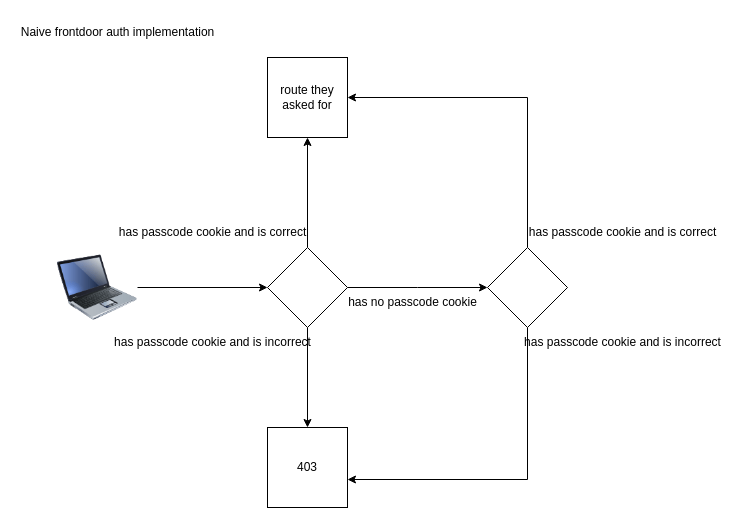
Image size: 738x525. Some labels were removed from this diagram. The centre of each missing label's shape, as x and y in pixels:
"enter passcode" belongs at point 527,287.
"front door" belongs at point 307,287.
